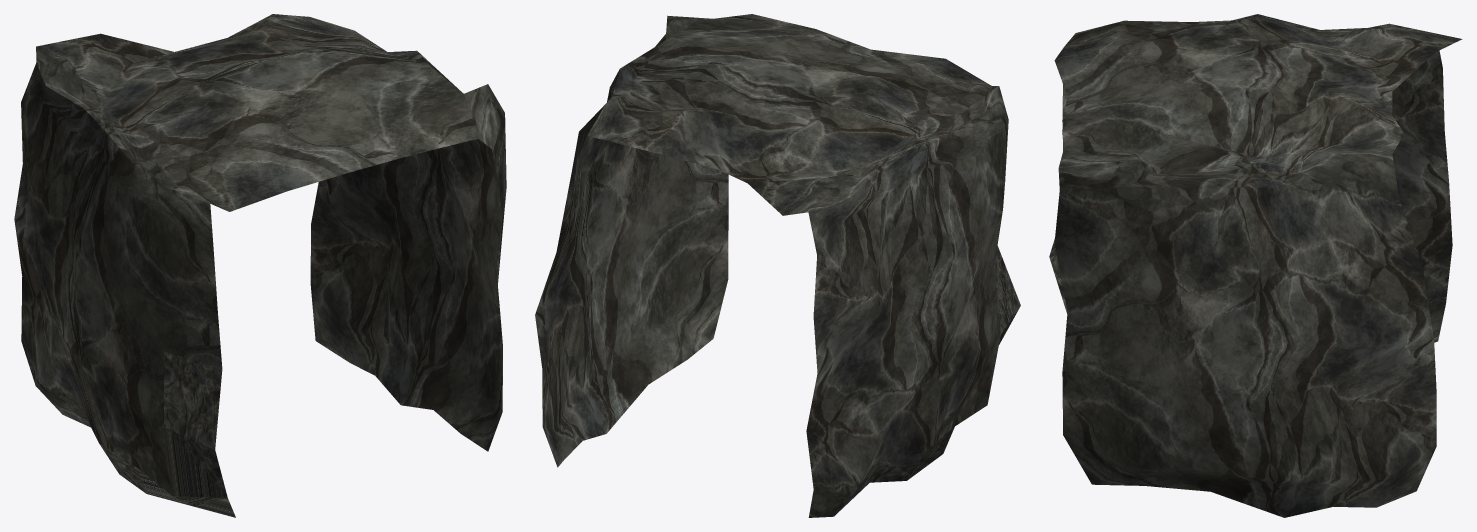
File: CliffAC4x4.fbx
3 views of the same model, side by side, from view 1: azimuth 30°, elevation 25°; view 2: azimuth 150°, elevation 25°; view 3: azimuth 270°, elevation 25° (orthographic). The views are drawn at different scales.
Parts seen in each view (by area): view 1: CliffAC4x4; view 2: CliffAC4x4; view 3: CliffAC4x4.
Boxes of the visible parts, box(x1,y1,x2,y2) form: CliffAC4x4: box(14, 14, 506, 517); CliffAC4x4: box(535, 14, 1020, 517); CliffAC4x4: box(1049, 14, 1462, 517).
Bounding box in the file's own units: 5.25 × 5.24 × 5.14.
